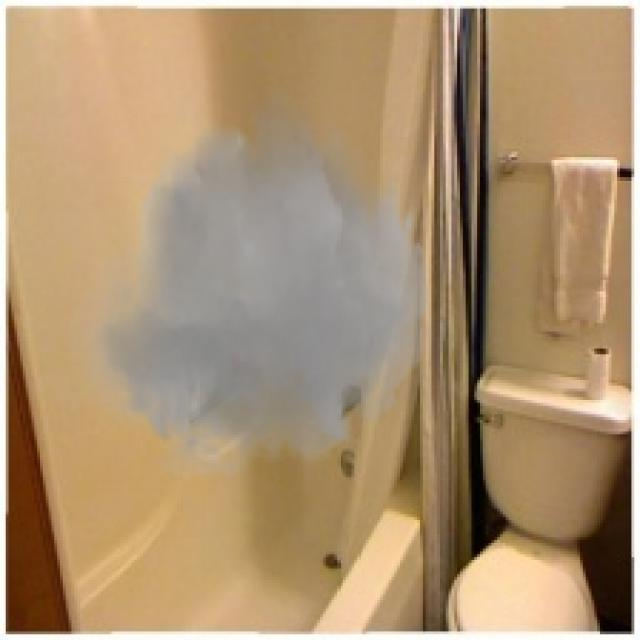Smoke: (66, 74, 437, 497)
